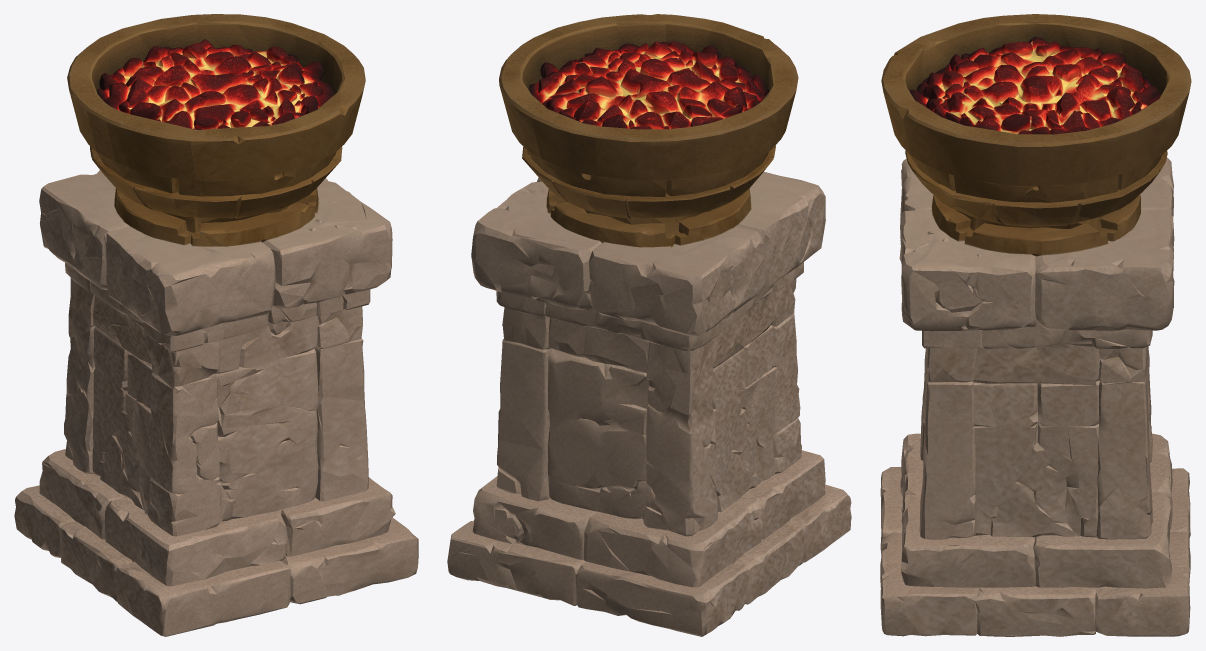
The model's file is brazier_pillar.glb.
3 views of the same model, side by side, from view 1: azimuth 30°, elevation 25°; view 2: azimuth 150°, elevation 25°; view 3: azimuth 270°, elevation 25° (orthographic). The views are drawn at different scales.
Bounding box in the file's own units: 1.08 × 1.9 × 1.08.
Materials: 1 (1 with a texture image).
